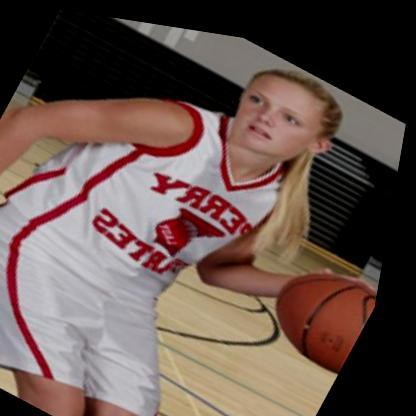basketball: (264, 237, 389, 368)
